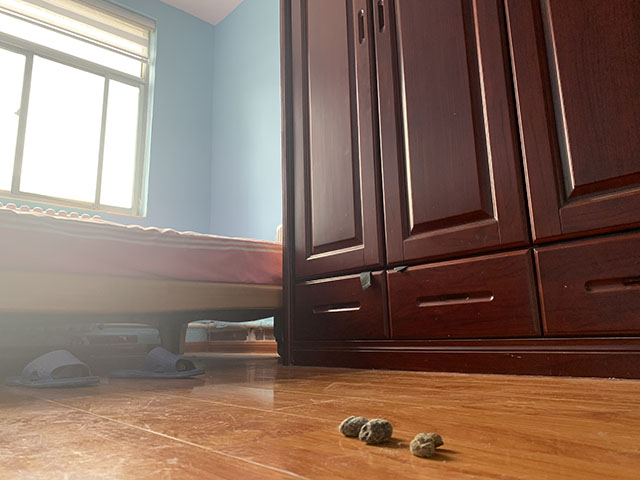bed: (1, 201, 285, 367)
cabinet: (278, 1, 640, 382)
feces: (338, 414, 393, 446), (409, 431, 445, 459)
slippers: (3, 346, 102, 390), (107, 345, 206, 380)
